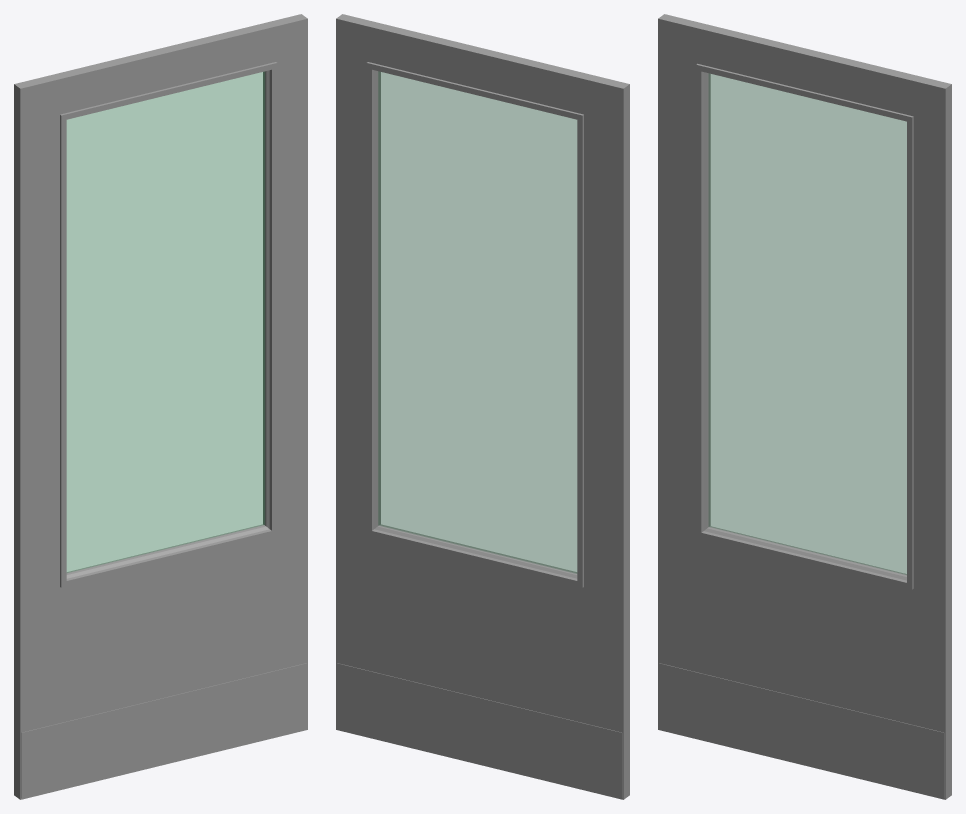
Rendered from SlideDoor.fbx.
3 renders of one model, left to right at view 1: azimuth 30°, elevation 25°; view 2: azimuth 150°, elevation 25°; view 3: azimuth 330°, elevation 25°, orthographic.
Parts seen in each view (by area): view 1: SlideDoor, SlideDoorGlass; view 2: SlideDoor, SlideDoorGlass; view 3: SlideDoor, SlideDoorGlass.
Boxes of the visible parts, box(x1,y1,x2,y2) form: SlideDoor: box(14, 14, 307, 799); SlideDoorGlass: box(67, 72, 264, 572); SlideDoor: box(336, 14, 629, 799); SlideDoorGlass: box(378, 71, 576, 573); SlideDoor: box(658, 14, 951, 799); SlideDoorGlass: box(708, 73, 906, 574).
Size of the model in its own units: 127 by 300 by 6.93.
